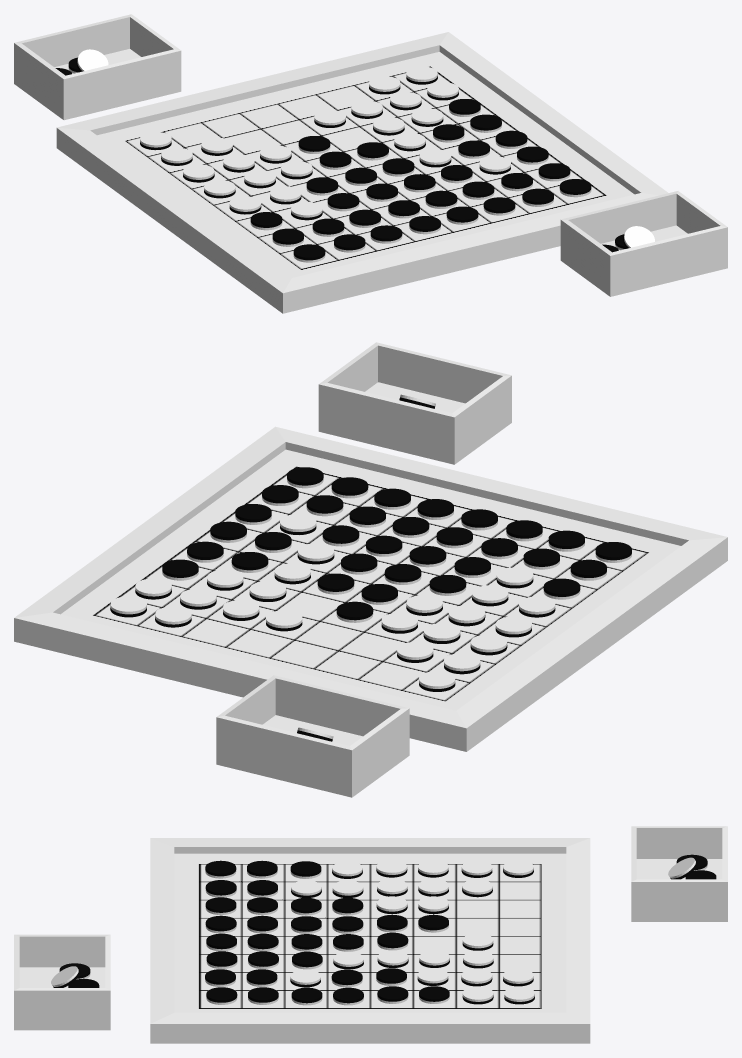
Rendered from osero.fbx.
3 views of the same model, one above another, from view 1: azimuth 30°, elevation 25°; view 2: azimuth 150°, elevation 25°; view 3: azimuth 270°, elevation 25° (orthographic). The views are drawn at different scales.
Parts seen in each view (by area): view 1: Obj_Board, Obj_Box.001, Obj_Box, Obj_Disc.019, Obj_Disc.020, Obj_Disc.014, Obj_Disc.010, Obj_Disc.086, Obj_Disc.047, Obj_Disc.045, Obj_Disc.008, Obj_Disc.043 (+49 smaller); view 2: Obj_Board, Obj_Box.001, Obj_Box; view 3: Obj_Board, Obj_Box, Obj_Box.001, Obj_Disc.091, Obj_Disc.088, Obj_Disc.104, Obj_Disc.102, Obj_Disc.096, Obj_Disc.090, Obj_Disc.086, Obj_Disc.041, Obj_Disc.040 (+49 smaller).
Part boxes in pixels (box(x1,y1,x2,y2)): Obj_Board: box(56, 32, 668, 313); Obj_Box.001: box(14, 14, 181, 120); Obj_Box: box(560, 191, 727, 296); Obj_Disc.019: box(623, 226, 654, 248); Obj_Disc.020: box(76, 49, 108, 71); Obj_Disc.014: box(312, 218, 344, 236); Obj_Disc.010: box(462, 181, 494, 199); Obj_Disc.086: box(411, 108, 443, 126); Obj_Disc.047: box(229, 196, 261, 214); Obj_Disc.045: box(306, 177, 338, 195); Obj_Disc.008: box(538, 163, 570, 181); Obj_Disc.043: box(382, 158, 414, 176); Obj_Board: box(14, 426, 727, 751); Obj_Box.001: box(216, 675, 409, 797); Obj_Box: box(318, 342, 511, 464); Obj_Board: box(150, 838, 590, 1043); Obj_Box: box(14, 934, 110, 1030); Obj_Box.001: box(631, 826, 727, 921); Obj_Disc.091: box(377, 932, 408, 950); Obj_Disc.088: box(377, 986, 408, 1003); Obj_Disc.104: box(504, 986, 534, 1004); Obj_Disc.102: box(461, 968, 492, 986); Obj_Disc.096: box(461, 860, 492, 877); Obj_Disc.090: box(377, 950, 408, 967); Obj_Disc.086: box(417, 968, 448, 985); Obj_Disc.041: box(331, 969, 362, 987); Obj_Disc.040: box(333, 987, 363, 1005).
Size of the model in its own units: 200 by 22.83 by 325.
Materials: 3 (2 with a texture image).
